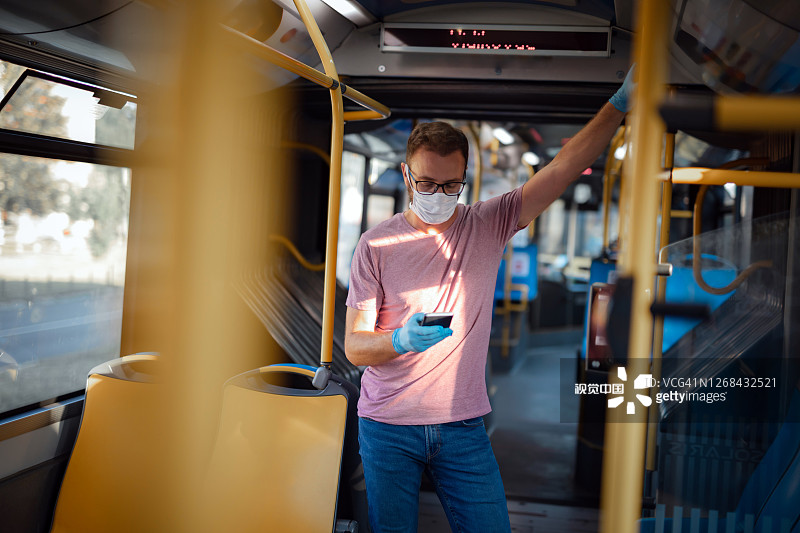reading: (382, 302, 468, 367)
